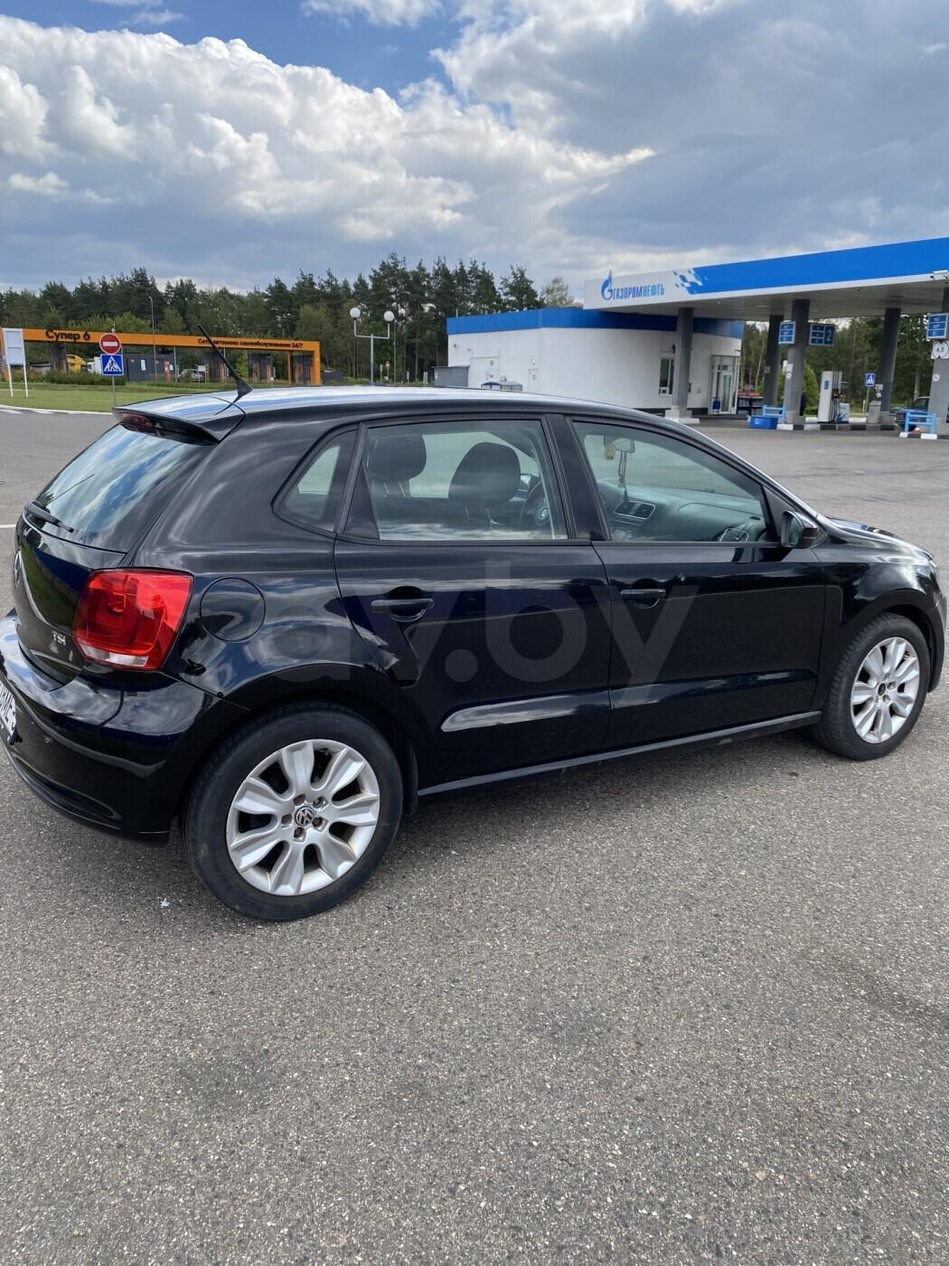Polo_2009-2015: (0, 345, 948, 953)
